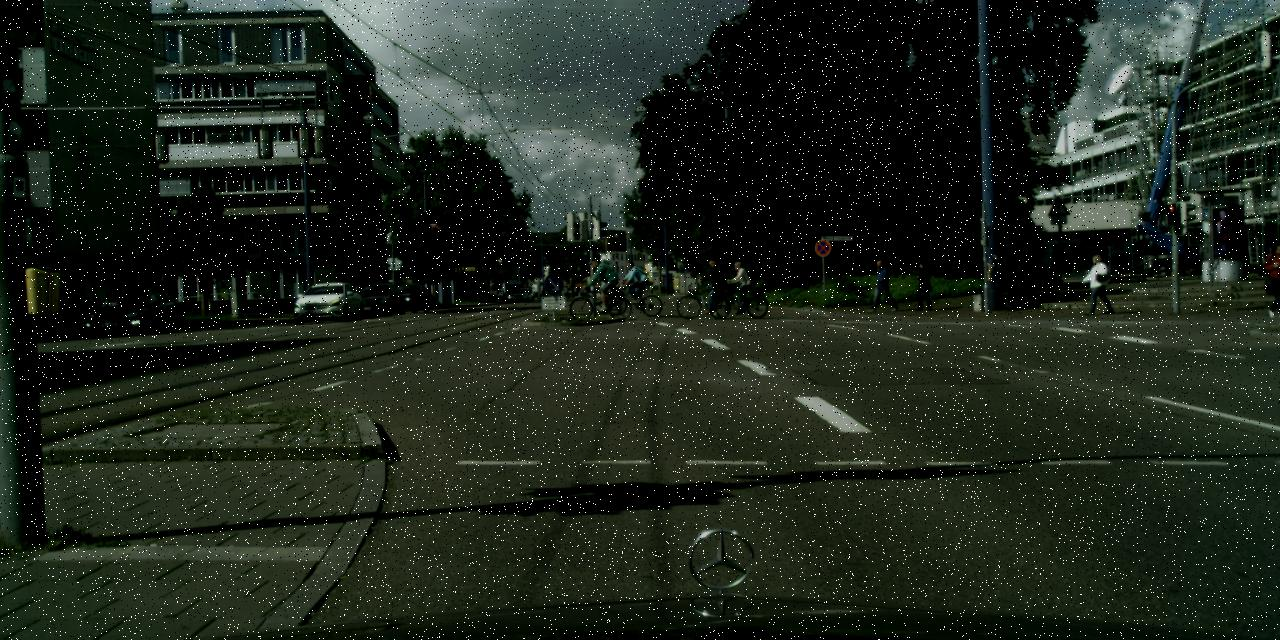ped: (1086, 254, 1110, 314), (1262, 240, 1278, 318), (871, 260, 891, 311), (702, 257, 722, 308), (913, 262, 933, 310), (730, 261, 750, 308), (590, 257, 610, 303), (625, 260, 643, 306), (688, 283, 691, 293)
